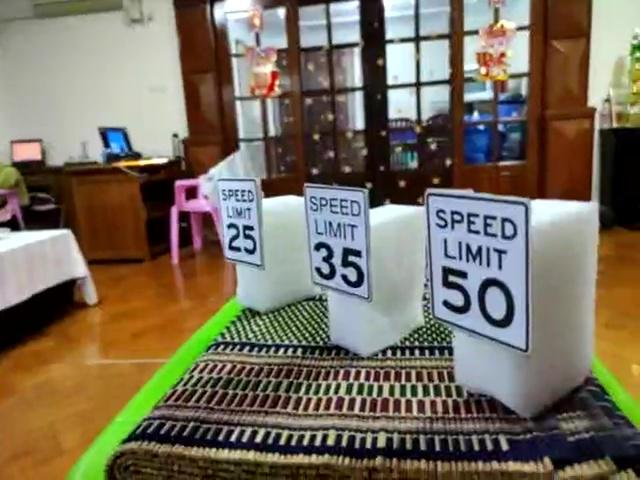Speed Limit 25: (219, 178, 270, 268)
Speed Limit 35: (302, 180, 376, 300)
Speed Limit 50: (426, 189, 534, 355)
